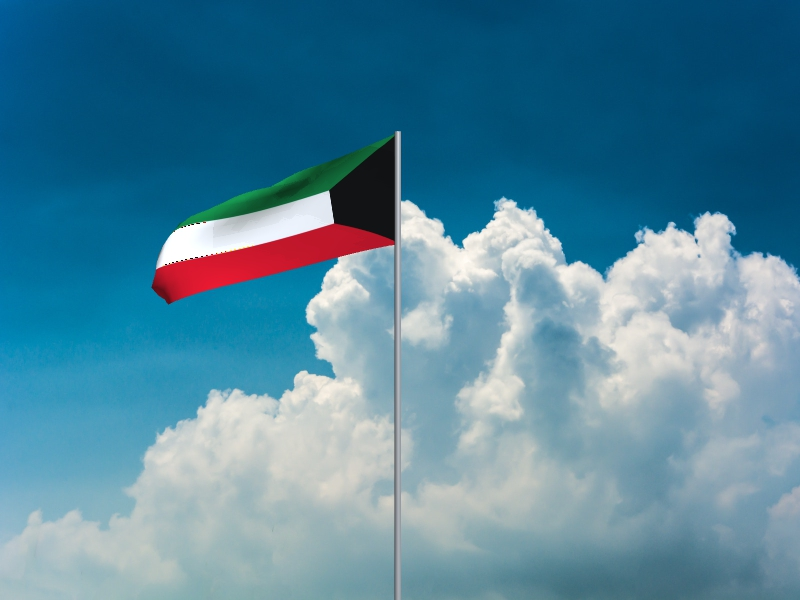kw: (151, 135, 395, 306)
